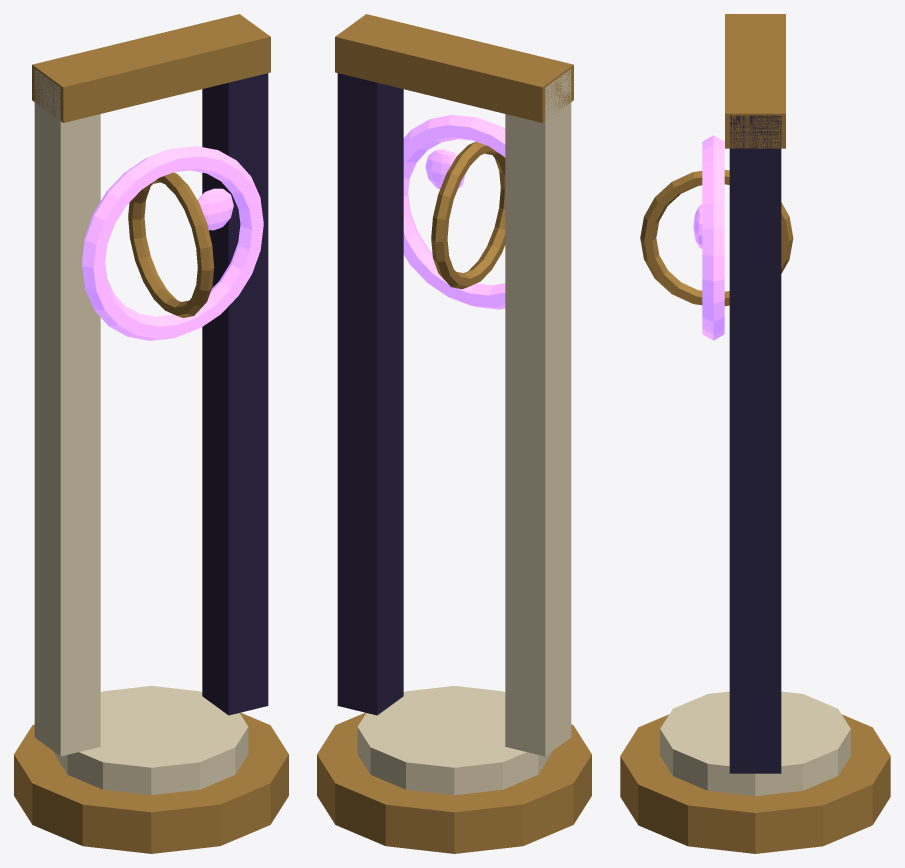
File: runtime.glb
3 renders of one model, left to right at view 1: azimuth 30°, elevation 25°; view 2: azimuth 150°, elevation 25°; view 3: azimuth 270°, elevation 25°, orthographic.
Visible parts, largest first — view 1: aetherion-zodiac-stele-v03_left_pier_nocol, aetherion-zodiac-stele-v03_right_pier_nocol, aetherion-zodiac-stele-v03_foot_nocol, aetherion-zodiac-stele-v03_plinth_nocol, aetherion-zodiac-stele-v03_lintel_nocol, aetherion-zodiac-stele-v03_primary_meridian_nocol, aetherion-zodiac-stele-v03_cross_meridian_nocol, aetherion-zodiac-stele-v03_sun_nocol; view 2: aetherion-zodiac-stele-v03_left_pier_nocol, aetherion-zodiac-stele-v03_right_pier_nocol, aetherion-zodiac-stele-v03_foot_nocol, aetherion-zodiac-stele-v03_plinth_nocol, aetherion-zodiac-stele-v03_lintel_nocol, aetherion-zodiac-stele-v03_primary_meridian_nocol, aetherion-zodiac-stele-v03_cross_meridian_nocol, aetherion-zodiac-stele-v03_sun_nocol; view 3: aetherion-zodiac-stele-v03_right_pier_nocol, aetherion-zodiac-stele-v03_foot_nocol, aetherion-zodiac-stele-v03_plinth_nocol, aetherion-zodiac-stele-v03_lintel_nocol, aetherion-zodiac-stele-v03_primary_meridian_nocol, aetherion-zodiac-stele-v03_cross_meridian_nocol.
Boxes of the visible parts, x1,y1,x2,y2 form: aetherion-zodiac-stele-v03_left_pier_nocol: [34, 69, 100, 756]; aetherion-zodiac-stele-v03_right_pier_nocol: [202, 73, 268, 715]; aetherion-zodiac-stele-v03_foot_nocol: [14, 712, 288, 853]; aetherion-zodiac-stele-v03_plinth_nocol: [54, 686, 248, 795]; aetherion-zodiac-stele-v03_lintel_nocol: [32, 14, 270, 122]; aetherion-zodiac-stele-v03_primary_meridian_nocol: [82, 146, 263, 340]; aetherion-zodiac-stele-v03_cross_meridian_nocol: [128, 172, 214, 317]; aetherion-zodiac-stele-v03_sun_nocol: [197, 188, 233, 230]; aetherion-zodiac-stele-v03_left_pier_nocol: [505, 69, 571, 756]; aetherion-zodiac-stele-v03_right_pier_nocol: [337, 73, 403, 715]; aetherion-zodiac-stele-v03_foot_nocol: [317, 712, 591, 853]; aetherion-zodiac-stele-v03_plinth_nocol: [357, 686, 551, 795]; aetherion-zodiac-stele-v03_lintel_nocol: [335, 14, 573, 122]; aetherion-zodiac-stele-v03_primary_meridian_nocol: [403, 114, 505, 309]; aetherion-zodiac-stele-v03_cross_meridian_nocol: [431, 141, 505, 289]; aetherion-zodiac-stele-v03_sun_nocol: [425, 149, 465, 189]; aetherion-zodiac-stele-v03_right_pier_nocol: [729, 115, 781, 773]; aetherion-zodiac-stele-v03_foot_nocol: [620, 714, 890, 853]; aetherion-zodiac-stele-v03_plinth_nocol: [660, 691, 850, 796]; aetherion-zodiac-stele-v03_lintel_nocol: [725, 14, 785, 148]; aetherion-zodiac-stele-v03_primary_meridian_nocol: [702, 135, 724, 340]; aetherion-zodiac-stele-v03_cross_meridian_nocol: [640, 170, 793, 306].
Bounding box in the file's own units: 3.35 × 10.03 × 3.35.
